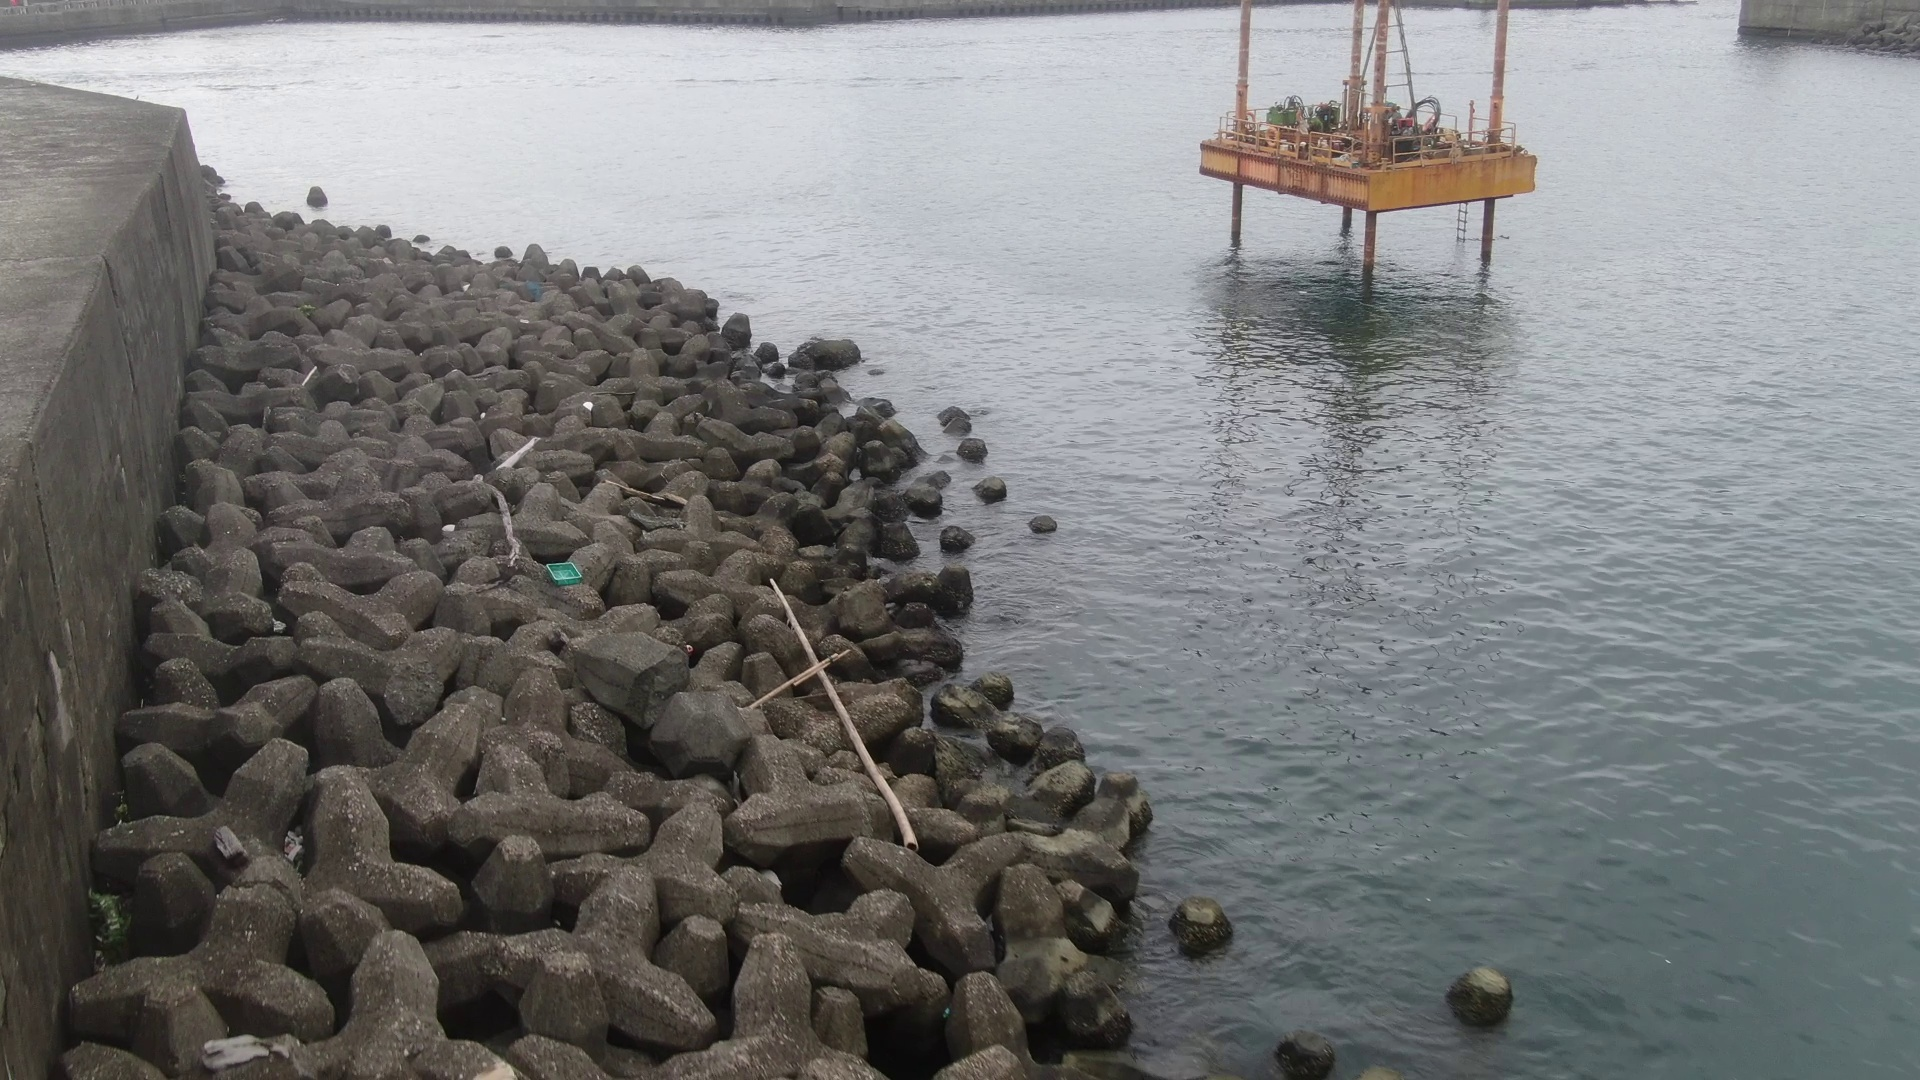garbage: (545, 554, 585, 589)
